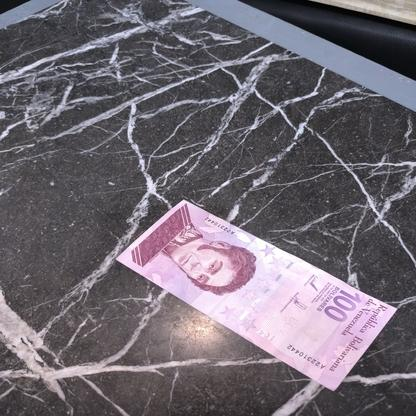one_hundred-front-vef: (115, 198, 398, 392)
